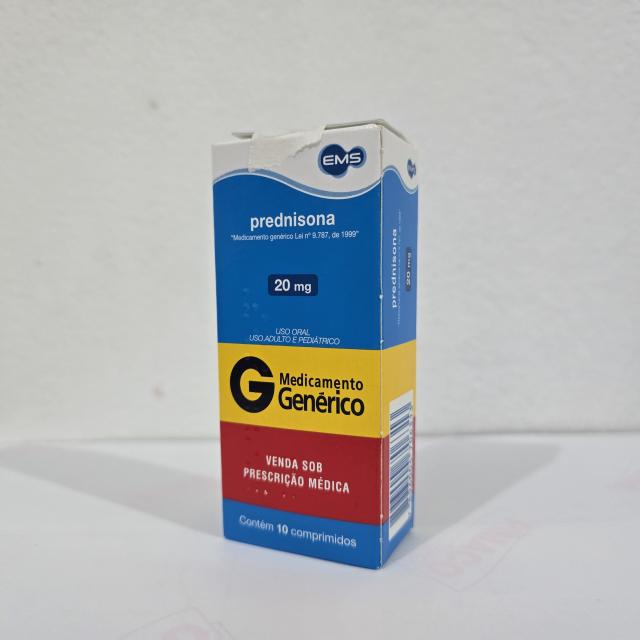prednisona: (207, 114, 419, 576)
